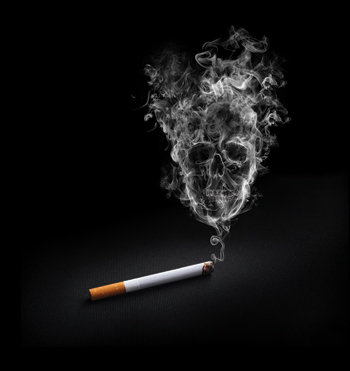cigarette: (78, 252, 218, 300)
